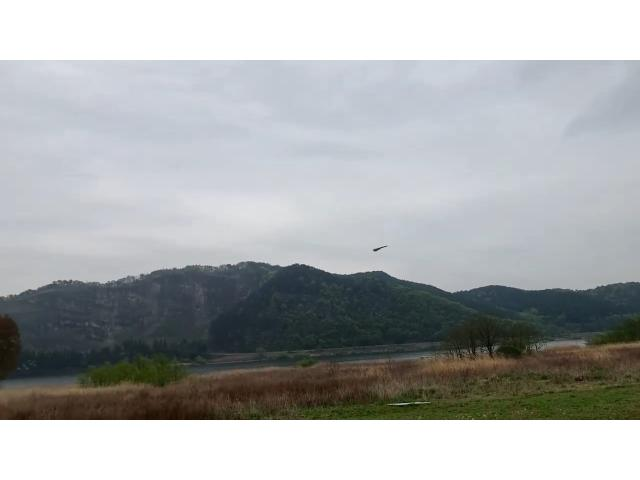Anti-Drone: (374, 246, 386, 252)
